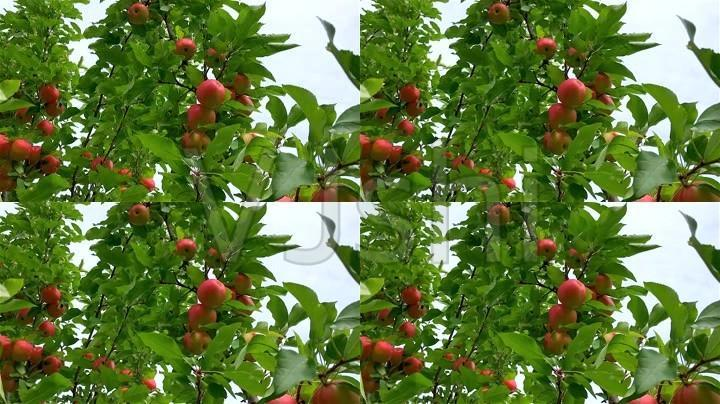apple: (197, 277, 227, 308), (38, 83, 65, 117), (559, 78, 588, 109), (559, 278, 588, 308), (197, 78, 225, 109), (544, 129, 573, 155), (544, 331, 572, 357), (547, 104, 575, 128), (548, 303, 573, 328), (369, 138, 394, 161), (188, 303, 209, 330), (11, 339, 35, 362), (9, 138, 32, 161), (128, 202, 150, 226), (488, 202, 510, 226), (127, 1, 149, 25), (487, 2, 510, 24), (399, 84, 421, 107), (535, 37, 558, 57), (46, 297, 67, 318), (372, 340, 393, 361), (39, 84, 60, 105), (39, 154, 61, 174), (400, 154, 421, 174), (41, 355, 62, 375), (174, 37, 196, 56), (235, 271, 253, 294), (402, 356, 423, 375), (594, 272, 612, 294), (535, 238, 557, 256), (175, 238, 197, 256), (594, 71, 612, 93), (41, 285, 61, 304), (233, 72, 249, 93), (397, 321, 415, 337), (596, 93, 615, 108), (39, 320, 56, 336), (37, 119, 54, 135), (235, 94, 254, 107)
